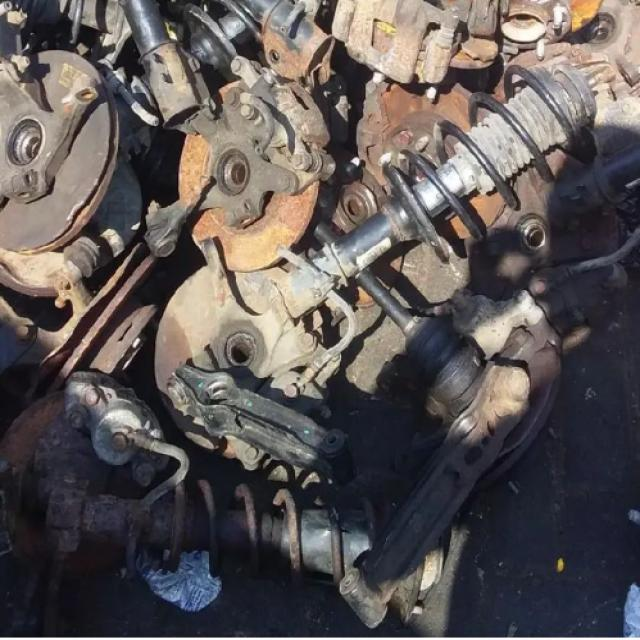shock absorber: (154, 63, 596, 403), (21, 448, 451, 622)
